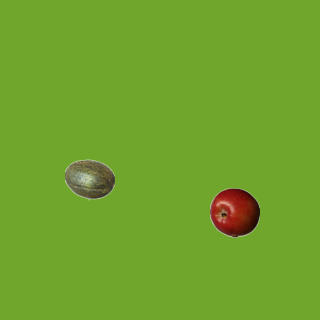Apple Braeburn: (209, 187, 259, 237)
Melon Piel de Sapo: (64, 154, 114, 204)
